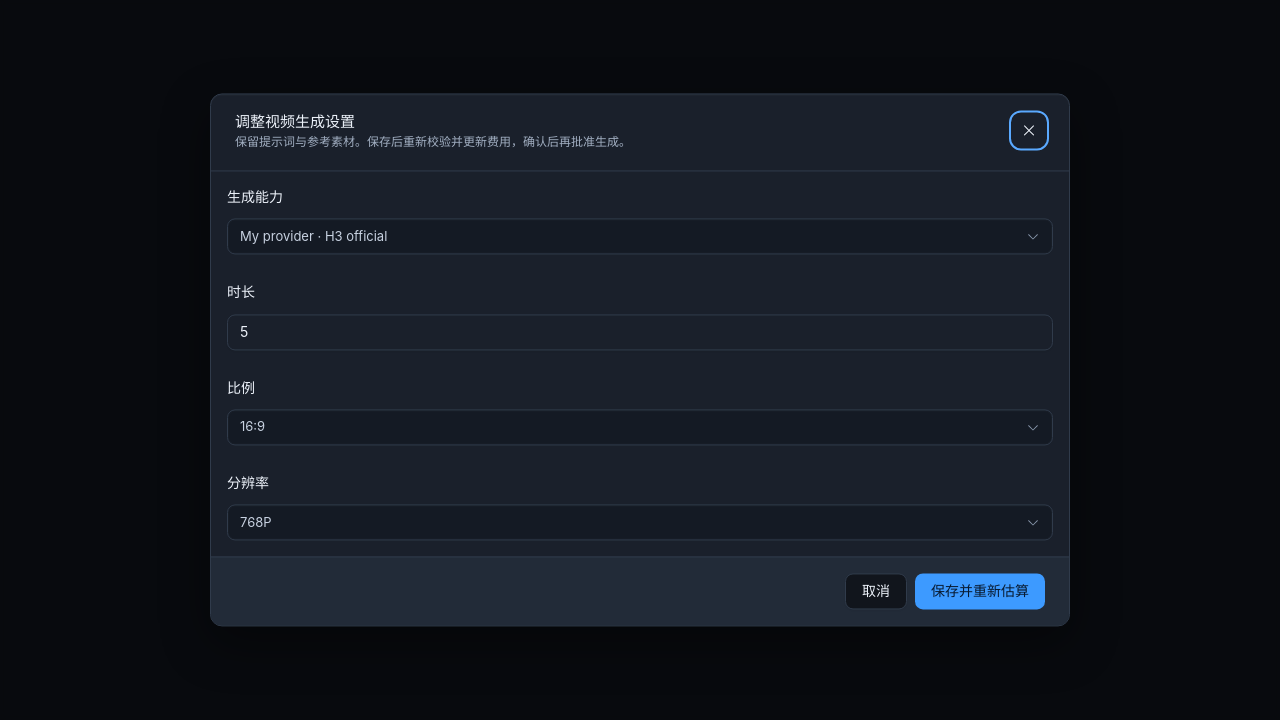
Test case: pending video approval settings › preserves edited values after a conflict or validation failure
Click the dropdown named "分辨率" at (256,522), box [227,505,1053,541]
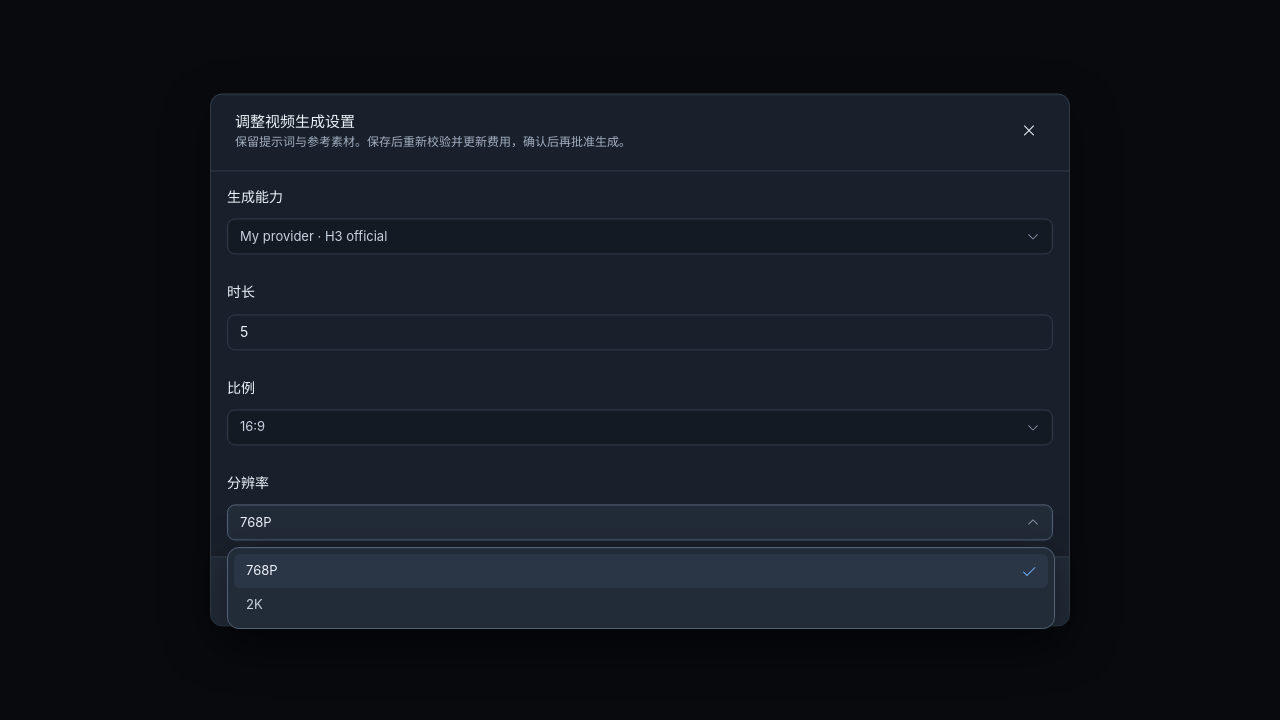
Click the option "2K" at (254,604), box [246,596,263,612]
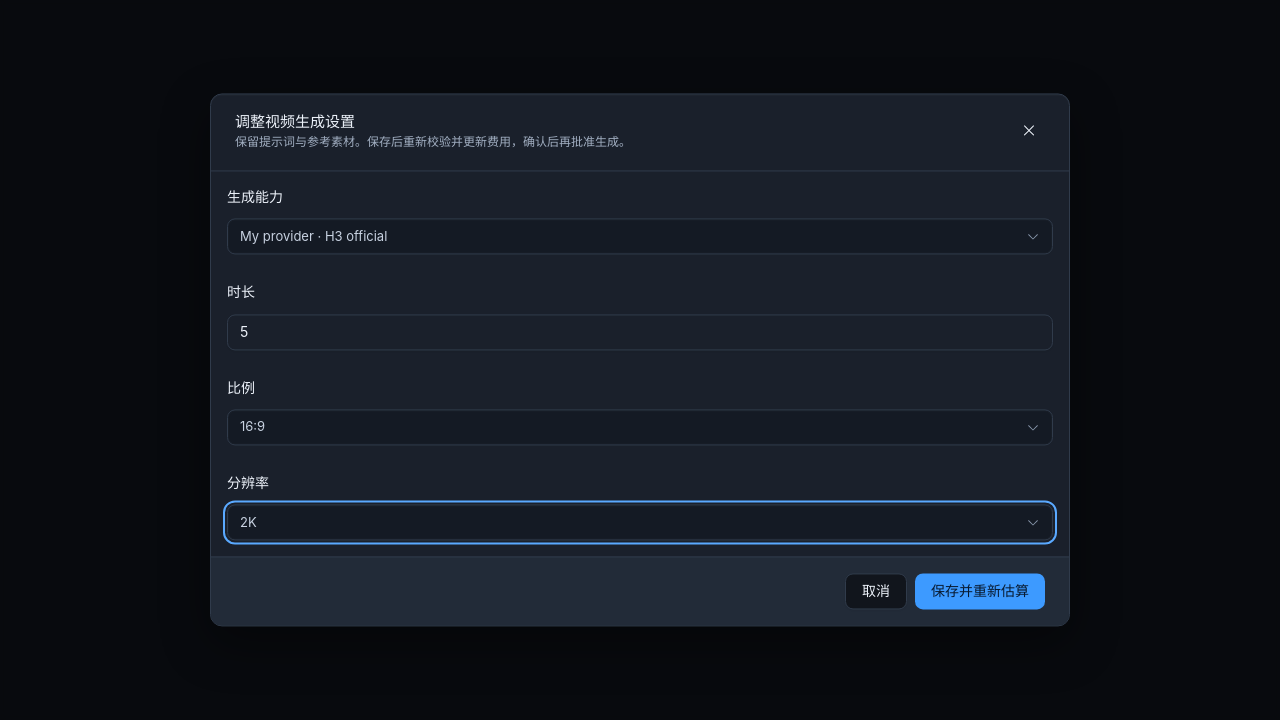
Click the button "保存并重新估算" at (980,592), box [915,574,1045,610]
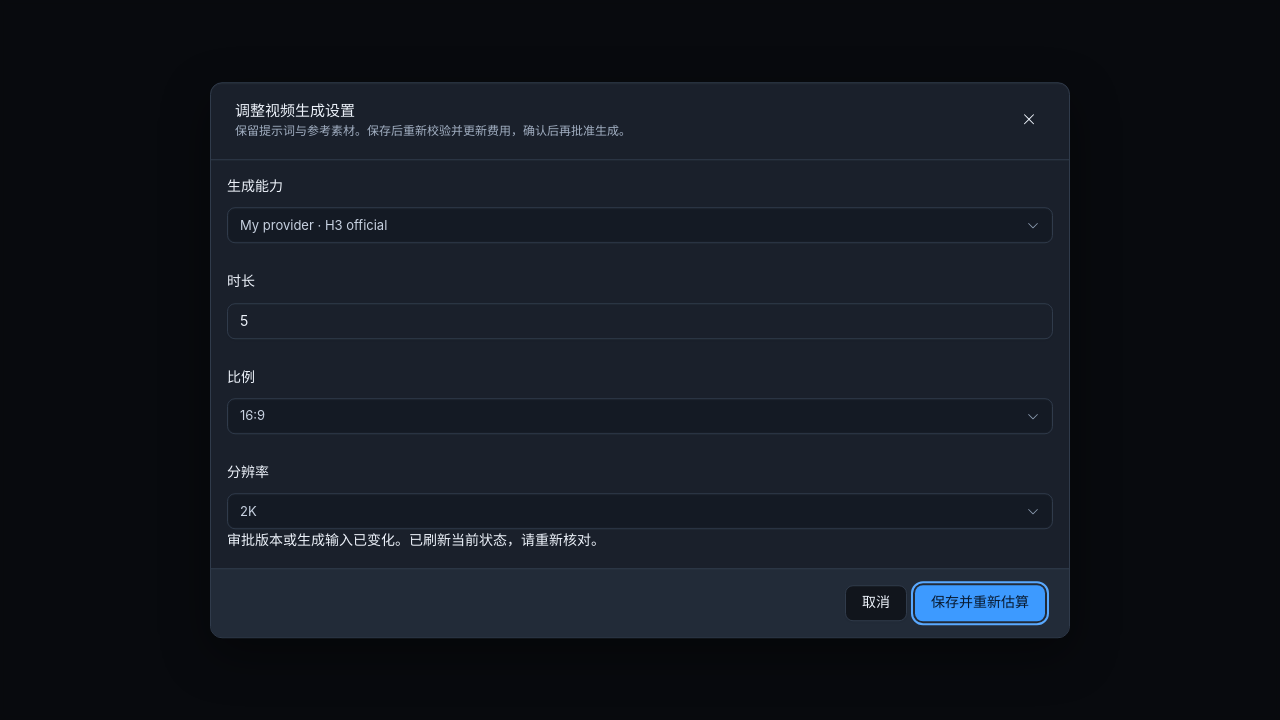
Expected: the button "保存并重新估算" is enabled, [915,585,1045,621]
Result: the dropdown named "分辨率" reads "2K" at [227,493,1053,529]
Result: the message shows "审批版本或生成输入已变化" at [227,531,605,548]
